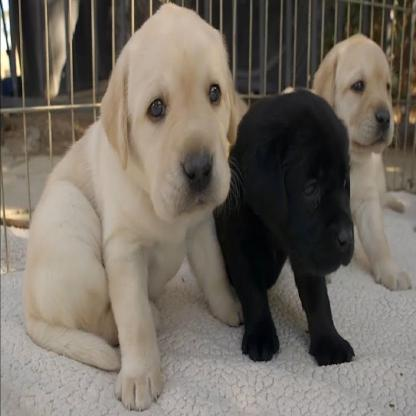Labarador Retriever: (24, 3, 241, 408), (215, 87, 354, 363)
